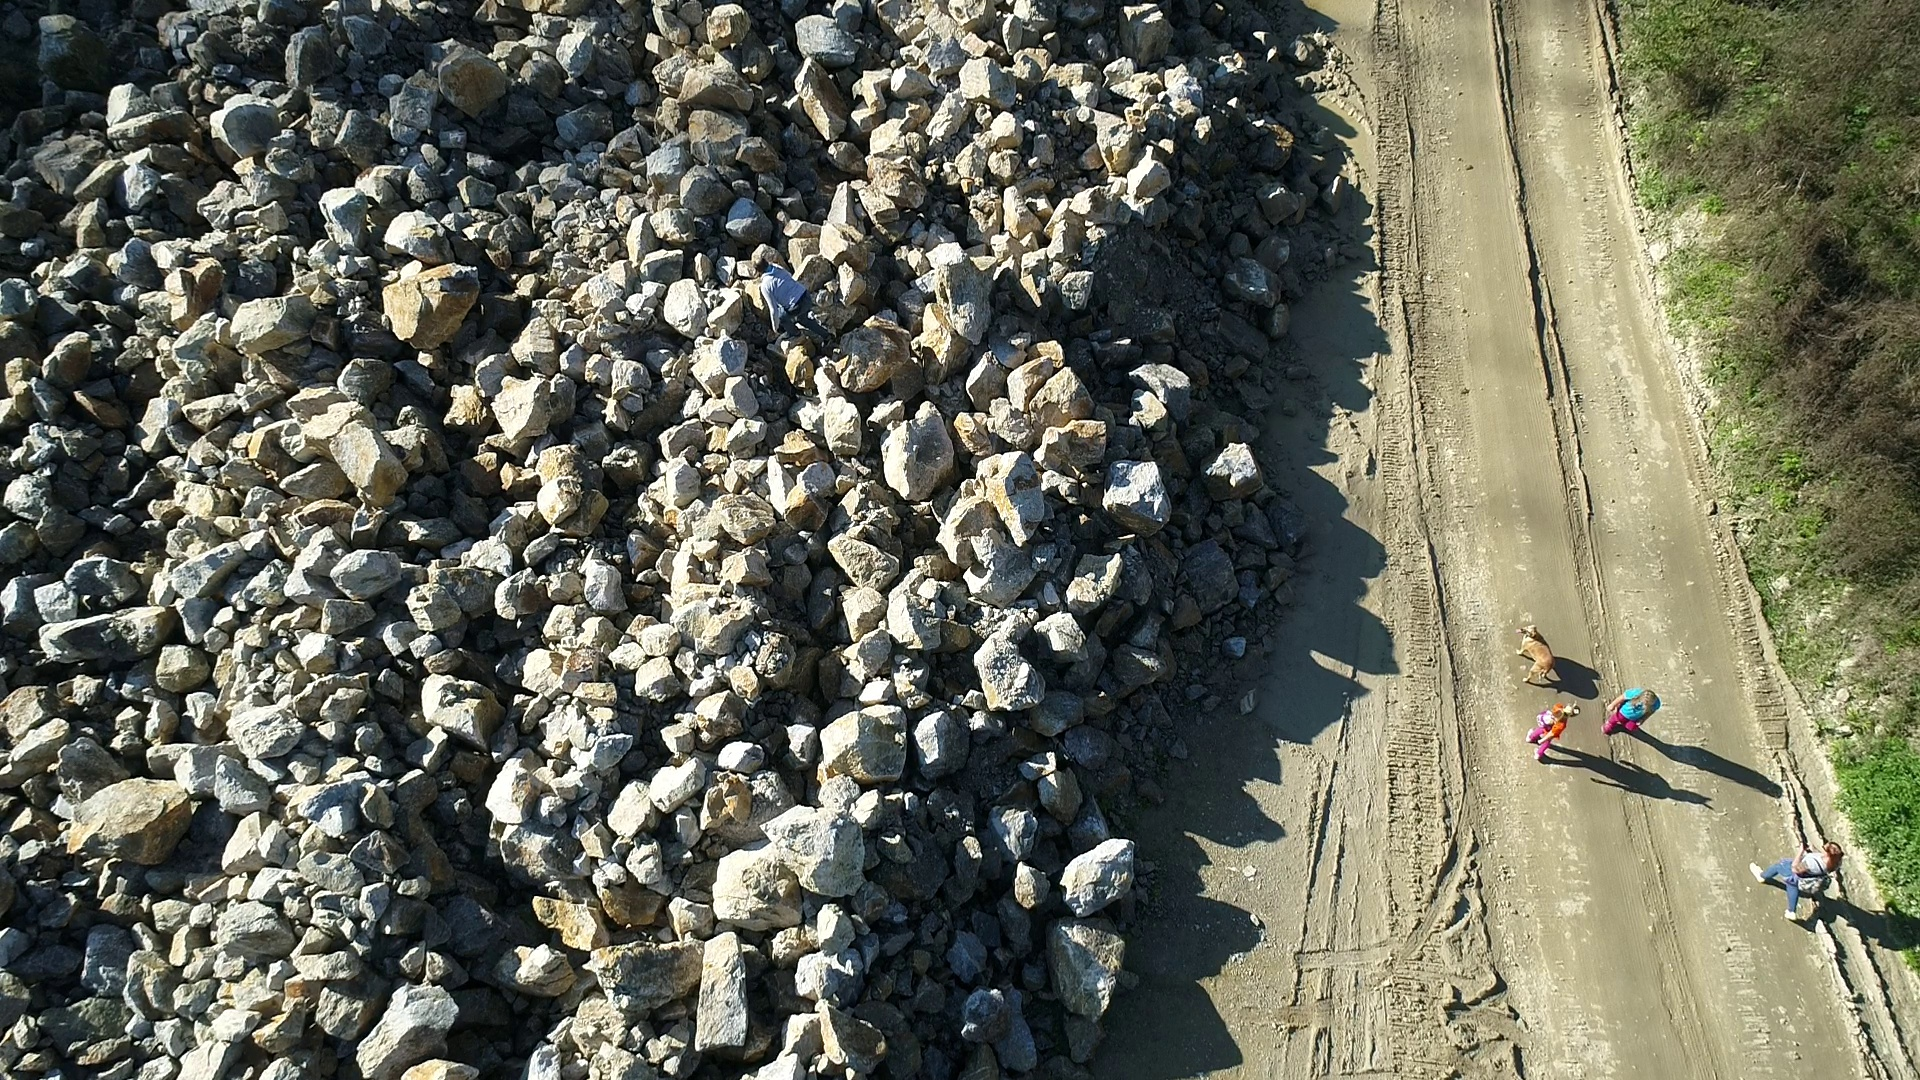person: (1750, 839, 1847, 920), (751, 255, 834, 351), (1601, 686, 1662, 740), (1526, 700, 1580, 761)
